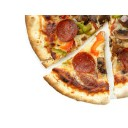pepperonipizza: (24, 15, 128, 102)
